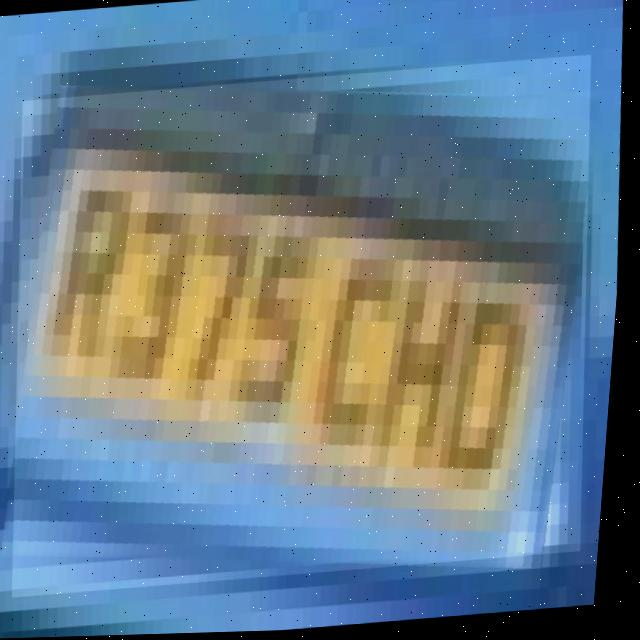LicensePlate: (0, 58, 618, 599)
